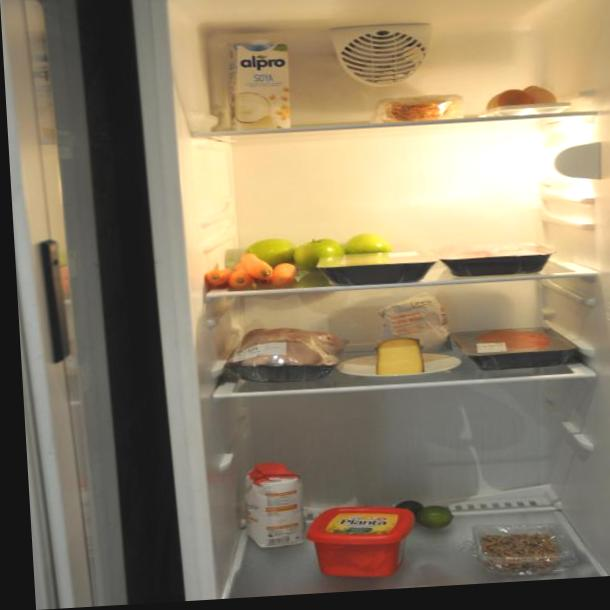apple: (244, 222, 390, 267)
carrots: (208, 258, 300, 304)
cheese: (364, 319, 437, 389)
chicken: (229, 317, 341, 404)
eggs: (476, 81, 567, 126)
lime: (398, 491, 463, 538)
meat: (459, 313, 580, 390), (440, 224, 561, 284), (320, 252, 439, 292)
milk: (232, 29, 298, 131)
